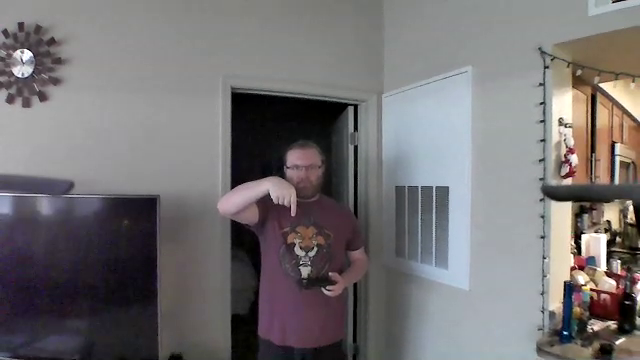down: (263, 171, 301, 221)
